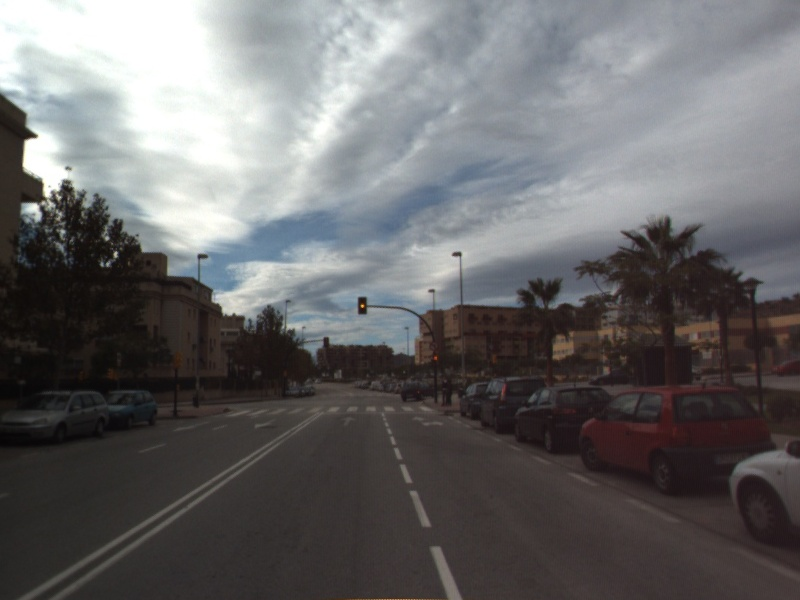STRAIGHT: (339, 414, 359, 428)
STRAIGHT_RIGHT: (410, 414, 446, 428)
